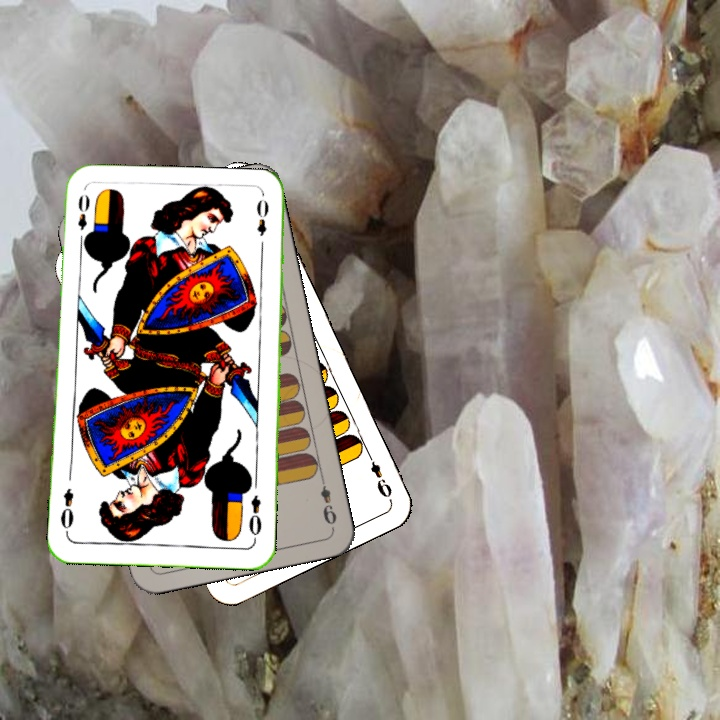E9: (362, 447, 395, 502), (316, 471, 339, 527)
EO: (244, 491, 265, 543), (74, 190, 93, 247)
